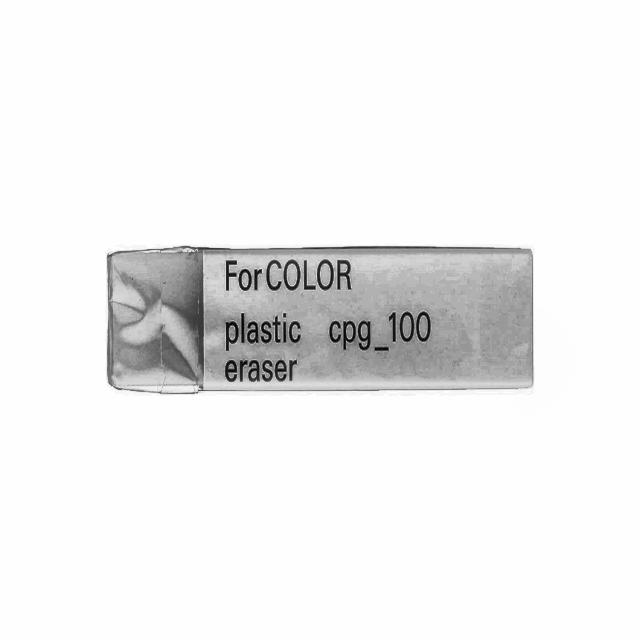eraser: (104, 242, 539, 394)
